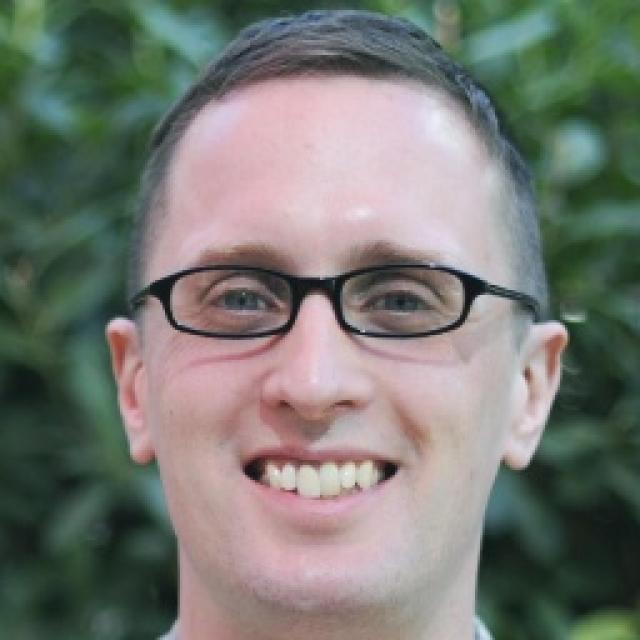glasses: (121, 254, 544, 345)
